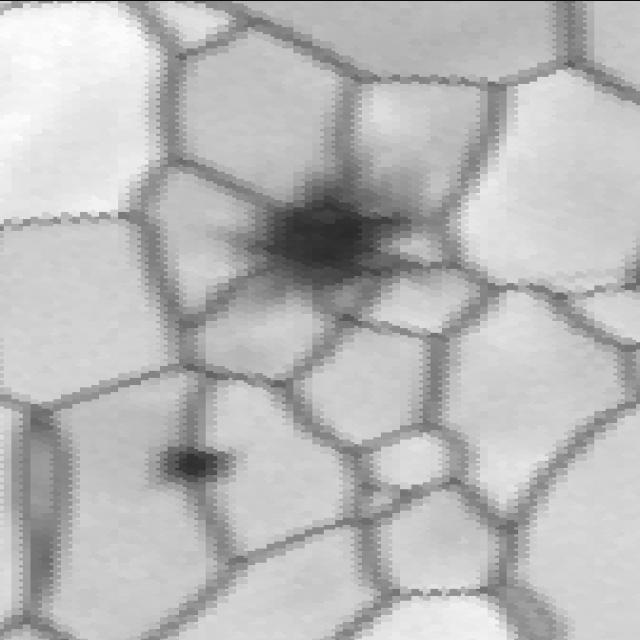good_void: (208, 147, 461, 303), (136, 435, 253, 497)
